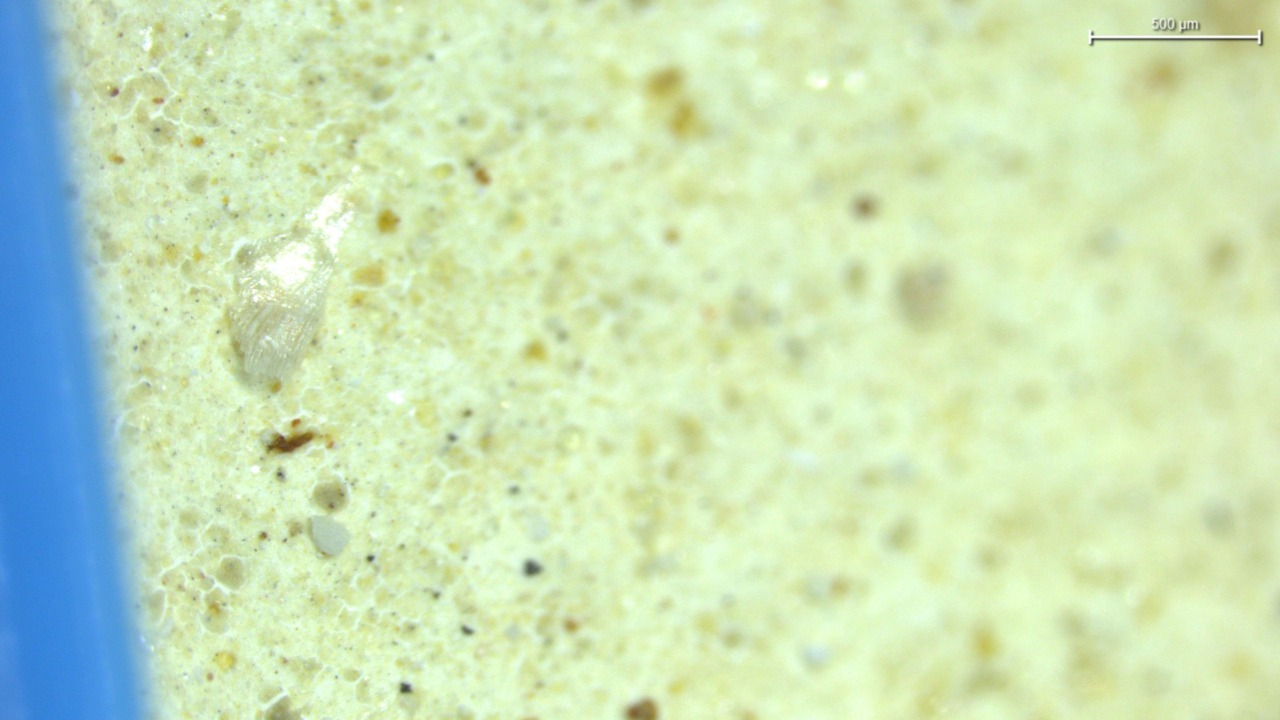microplastic_fragment: (229, 192, 351, 384)
